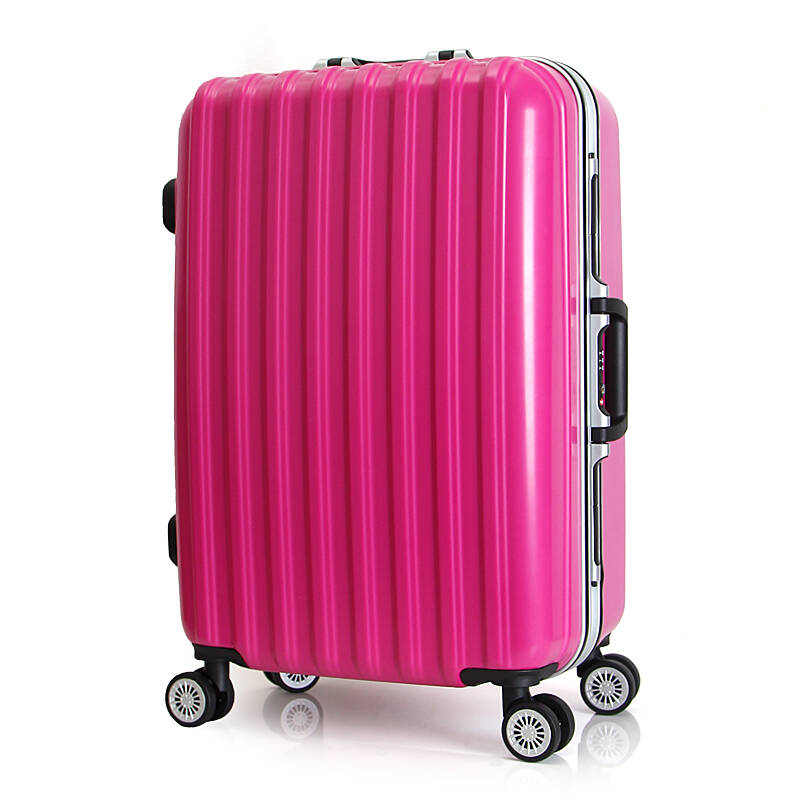luggage: (163, 50, 640, 765)
